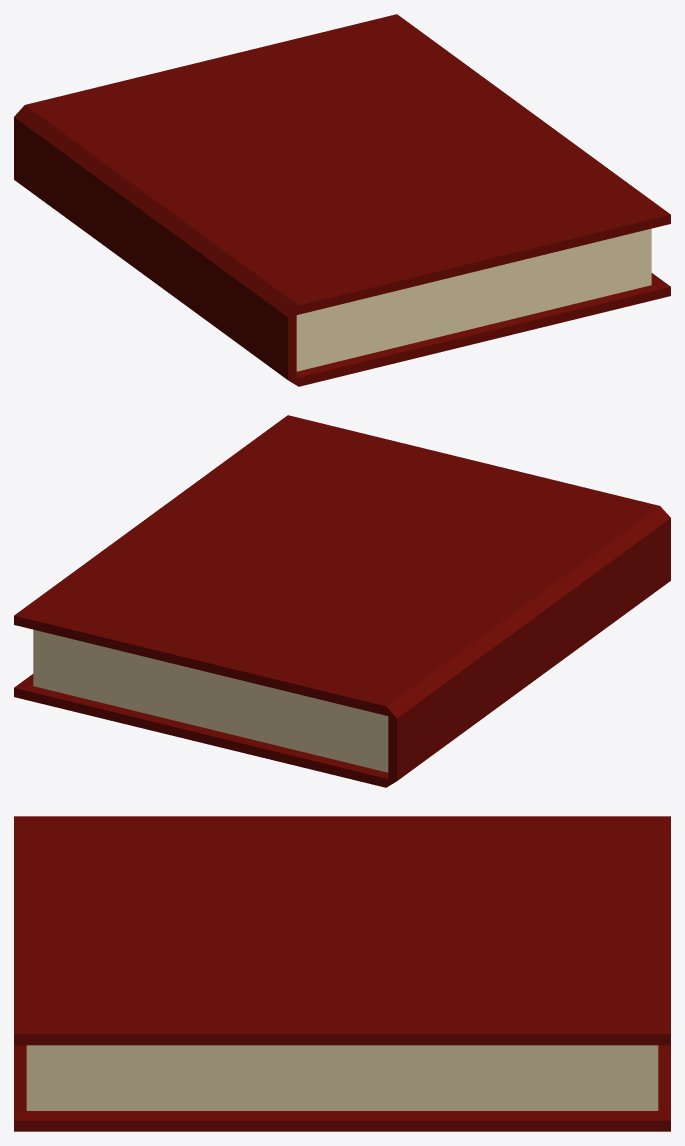
Rendered from Libro.fbx.
3 renders of one model, top to bottom at view 1: azimuth 30°, elevation 25°; view 2: azimuth 150°, elevation 25°; view 3: azimuth 270°, elevation 25°, orthographic. The views are drawn at different scales.
Visible parts, largest first — view 1: Libro; view 2: Libro; view 3: Libro.
Boxes of the visible parts, <box> form: Libro: <box>14,14,670,386</box>; Libro: <box>14,415,670,787</box>; Libro: <box>14,816,670,1131</box>.
Size of the model in its own units: 38.58 by 7.83 by 47.79.
